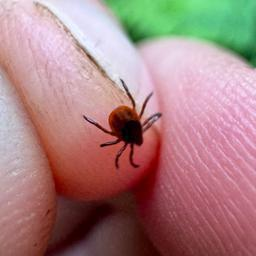Ixodes scapularis: (85, 80, 161, 170)
